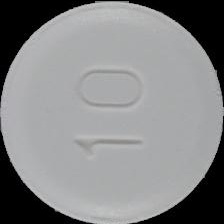13668-218: (0, 0, 224, 224)
